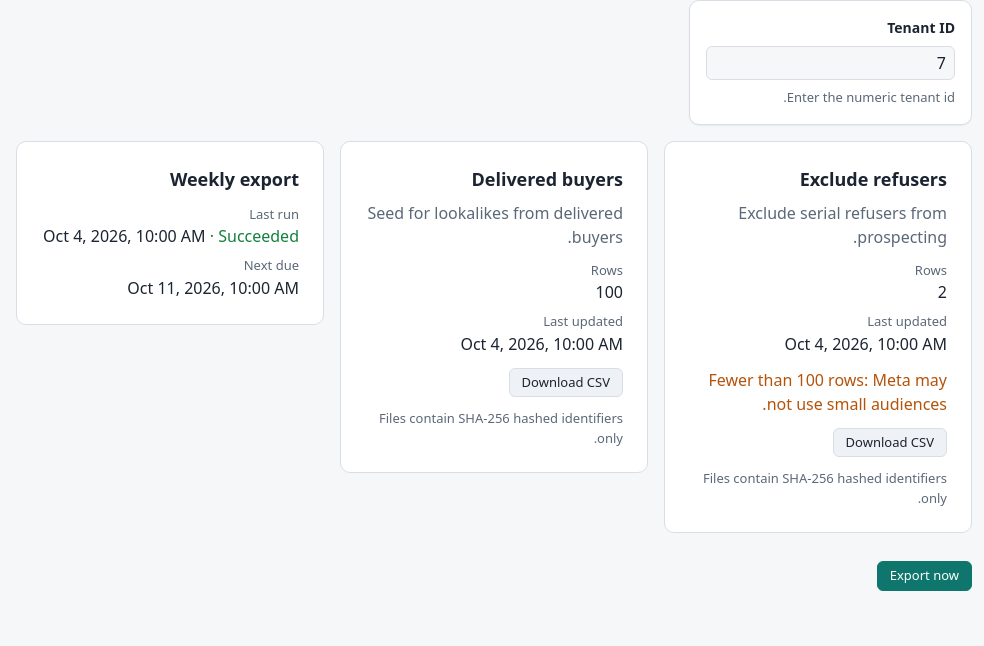
Test: AudiencesPage: behaviour › a failed export shows an alert and keeps the previous status
Step 1. Click the button "Export now" → (924, 576), box [877, 561, 972, 590]
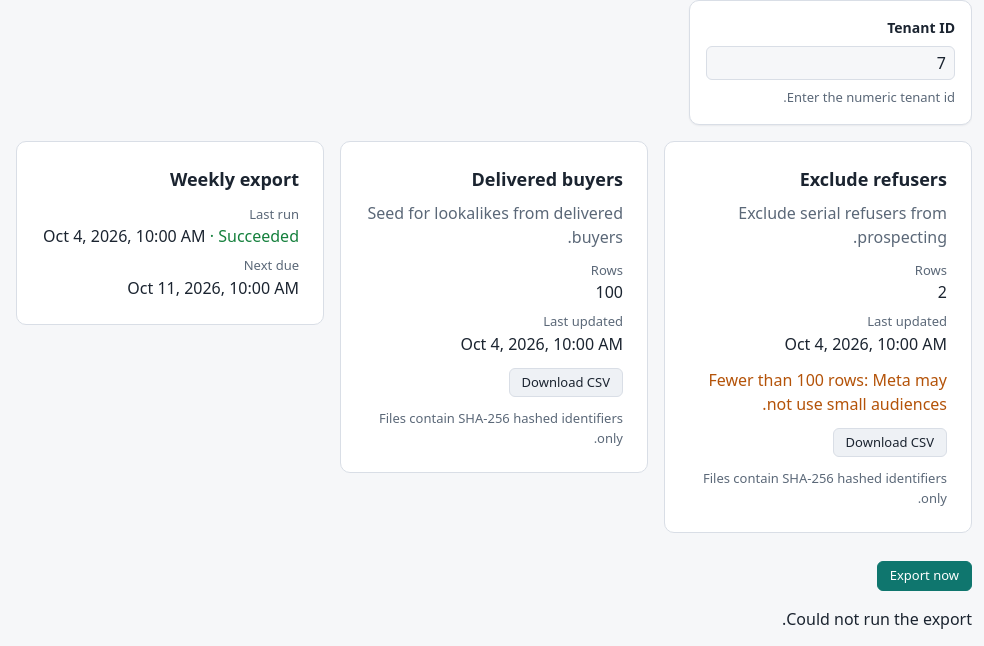
Expected: the text "2" is shown, [938, 281, 947, 303]
Expected: the text "Could not run the export." is shown, [782, 608, 972, 630]
